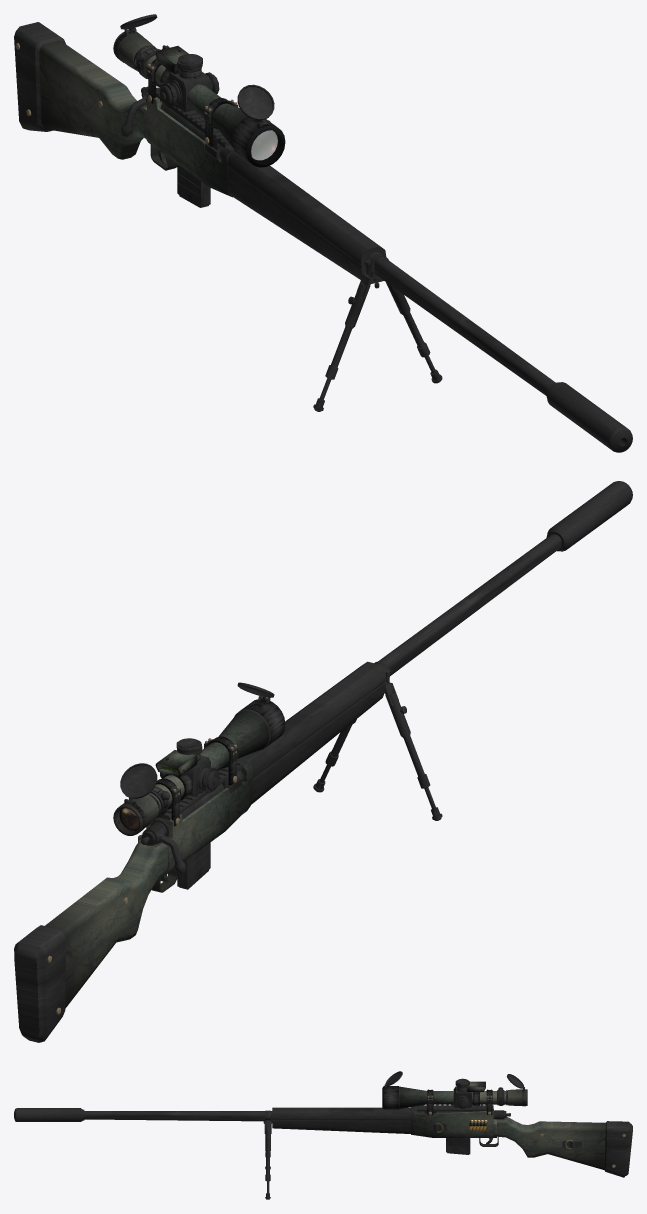
Rendered from sniper.glb.
3 renders of one model, top to bottom at view 1: azimuth 30°, elevation 25°; view 2: azimuth 150°, elevation 25°; view 3: azimuth 270°, elevation 25°, orthographic. The views are drawn at different scales.
Visible parts, largest first — view 1: sniper; view 2: sniper; view 3: sniper.
Boxes of the visible parts, bbox=[...] form: sniper: bbox=[14, 14, 632, 452]; sniper: bbox=[14, 481, 632, 1042]; sniper: bbox=[14, 1071, 632, 1199].
Bounding box in the file's own units: 0.1047 × 0.1702 × 0.85.
Materials: 14 (13 with a texture image).
